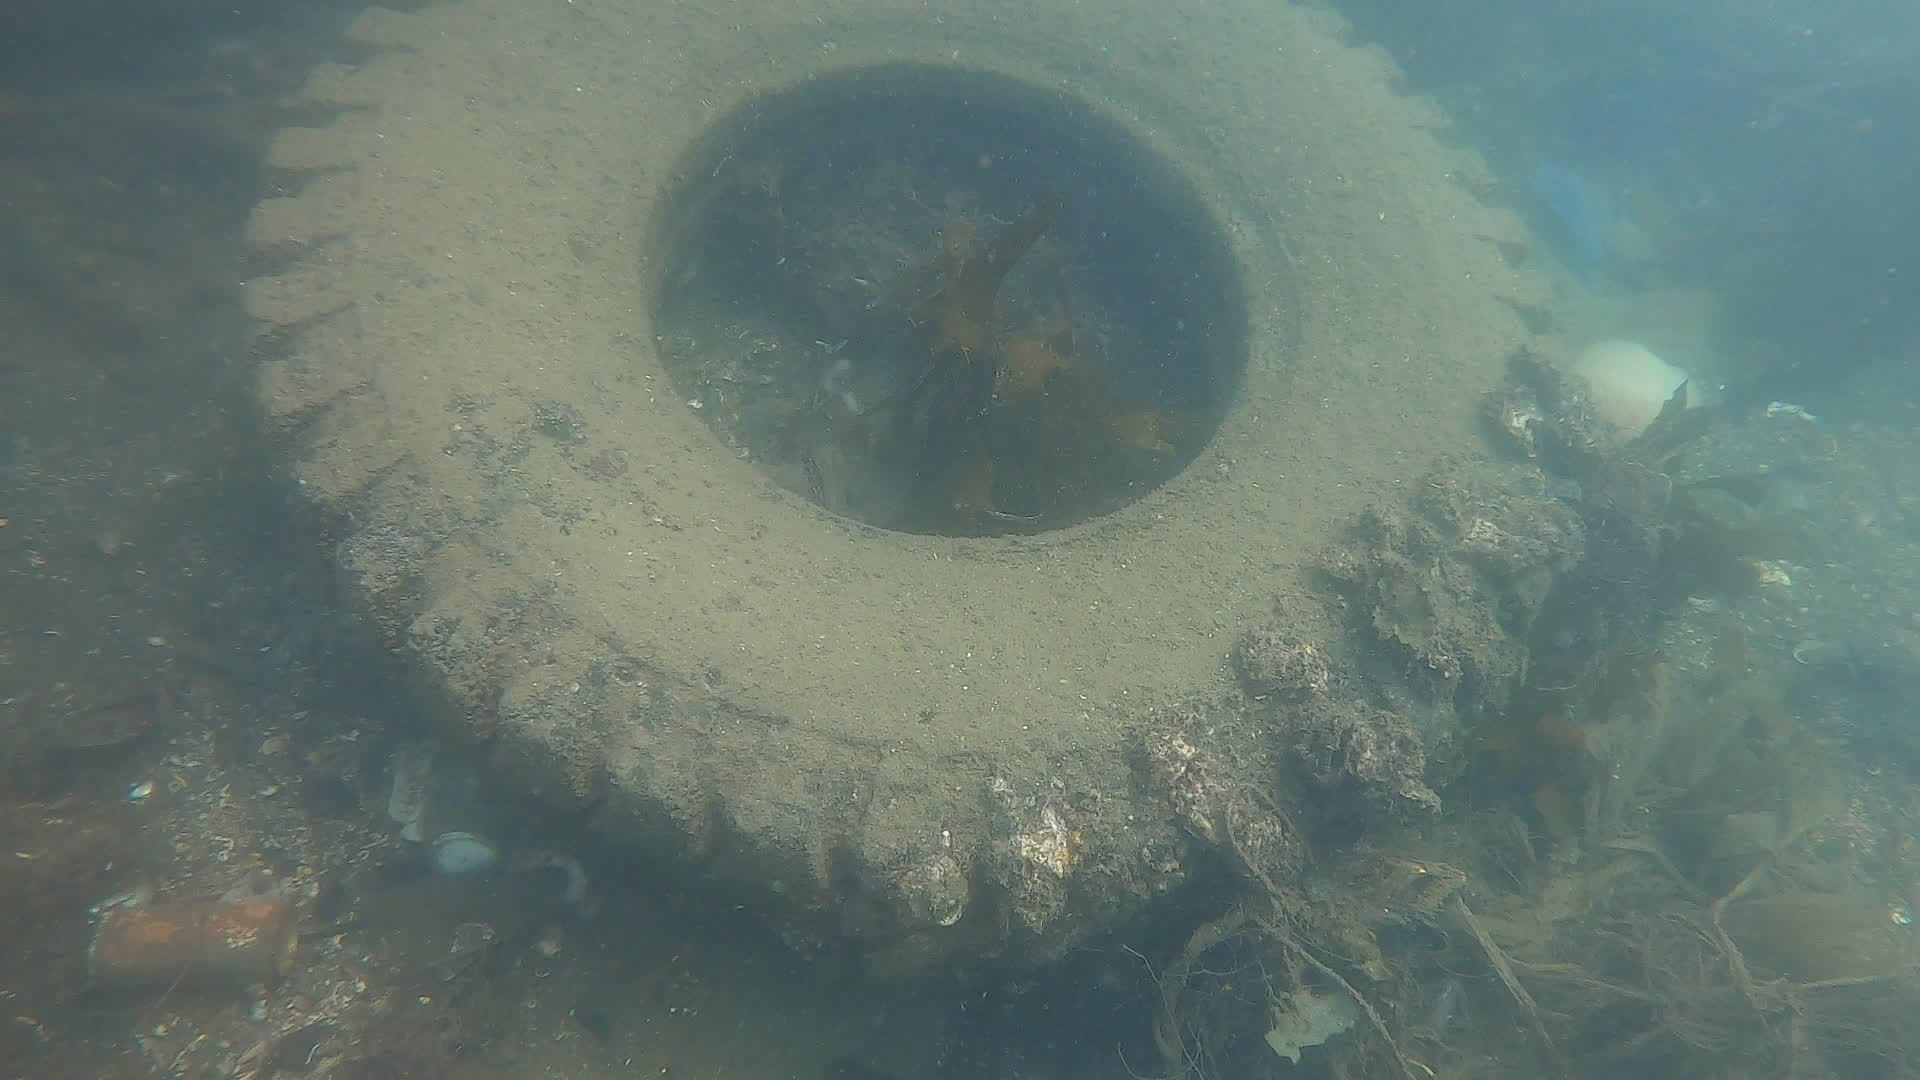tire: (241, 0, 1555, 971)
